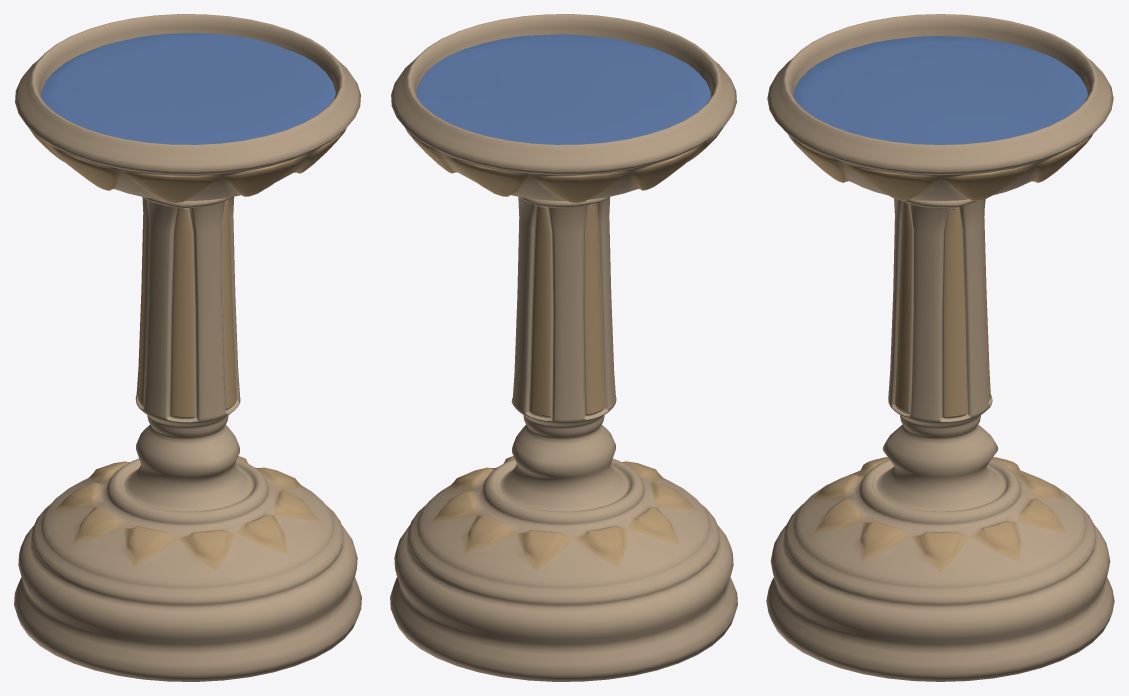
Rendered from Birdbath.fbx.
3 renders of one model, left to right at view 1: azimuth 30°, elevation 25°; view 2: azimuth 150°, elevation 25°; view 3: azimuth 270°, elevation 25°, orthographic.
Visible parts, largest first — view 1: pCylinder167; view 2: pCylinder167; view 3: pCylinder167.
Boxes of the visible parts, x1,y1,x2,y2 form: pCylinder167: [14, 14, 361, 681]; pCylinder167: [390, 14, 737, 681]; pCylinder167: [766, 14, 1114, 681].
Size of the model in its own units: 128 by 219 by 128.
